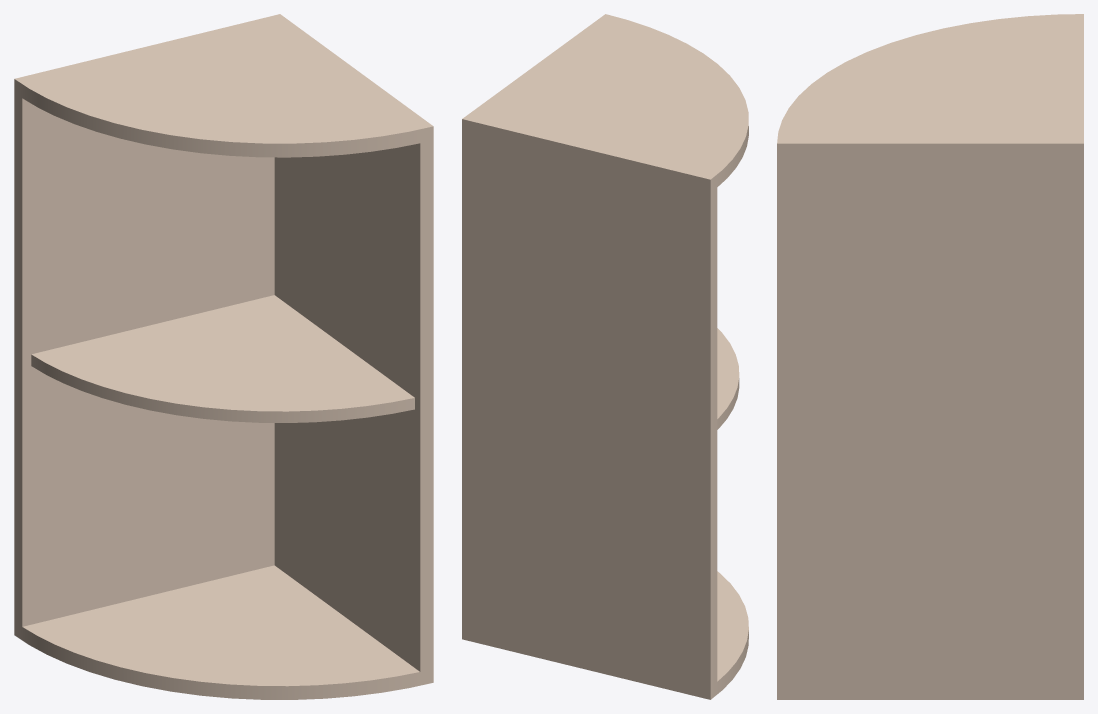
The picture shows the model from 3 angles, left to right: view 1: azimuth 30°, elevation 25°; view 2: azimuth 150°, elevation 25°; view 3: azimuth 270°, elevation 25°; orthographic projection. The views are drawn at different scales.
Visible parts, largest first — view 1: Body; view 2: Body; view 3: Body.
Part boxes in pixels (x1,y1,x2,y2): Body: (14,14,433,699); Body: (462,14,748,699); Body: (777,14,1083,699).
Size of the model in its own units: 0.3 by 0.6 by 0.3.
